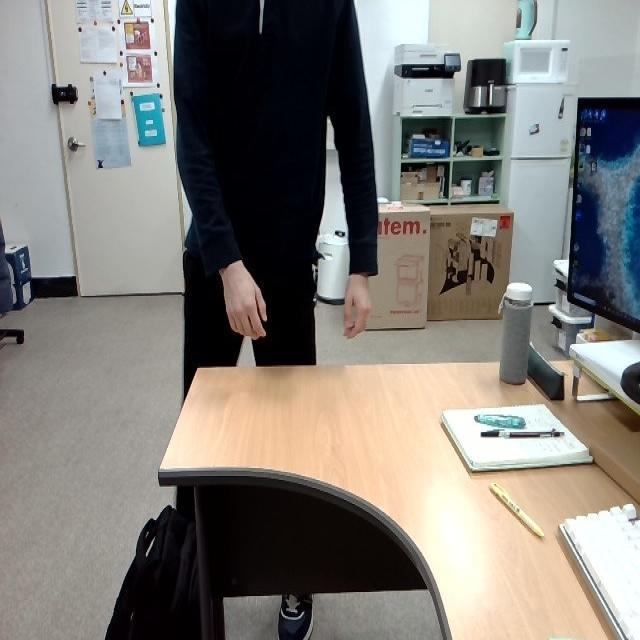bare_hand: (212, 255, 273, 341), (334, 262, 377, 343)
